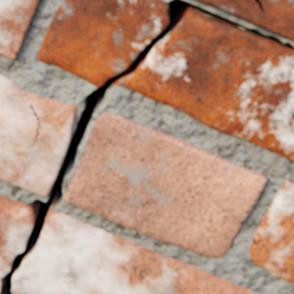brick: (64, 112, 266, 256), (0, 74, 76, 195), (249, 178, 293, 283), (199, 0, 293, 39), (0, 0, 40, 59)
broken_brick: (116, 11, 293, 159), (12, 210, 259, 293), (38, 0, 168, 85), (0, 194, 34, 289)
crack: (0, 0, 293, 293), (30, 103, 40, 144), (254, 0, 262, 11)
